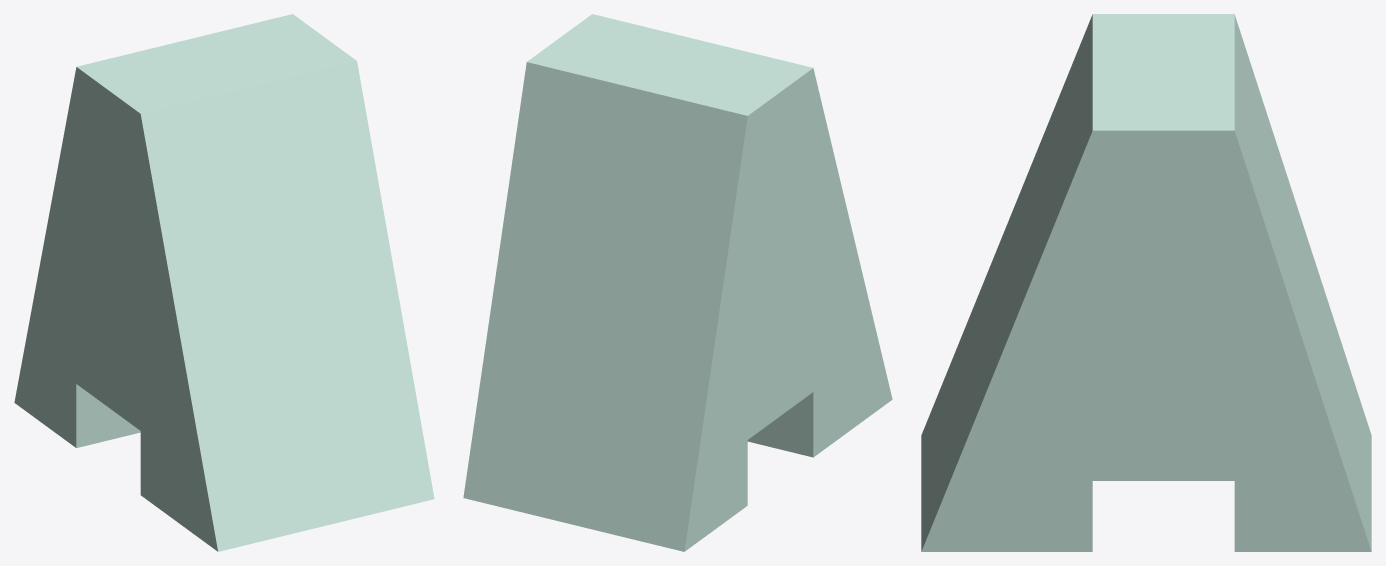
The picture shows the model from 3 angles, left to right: view 1: azimuth 30°, elevation 25°; view 2: azimuth 150°, elevation 25°; view 3: azimuth 270°, elevation 25°; orthographic projection. The views are drawn at different scales.
Parts seen in each view (by area): view 1: Renderer Node; view 2: Renderer Node; view 3: Renderer Node.
Boxes of the visible parts, x1,y1,x2,y2 form: Renderer Node: [14, 14, 434, 551]; Renderer Node: [463, 14, 892, 551]; Renderer Node: [921, 14, 1371, 551].
Size of the model in its own units: 0.4453 by 0.75 by 0.7263.
